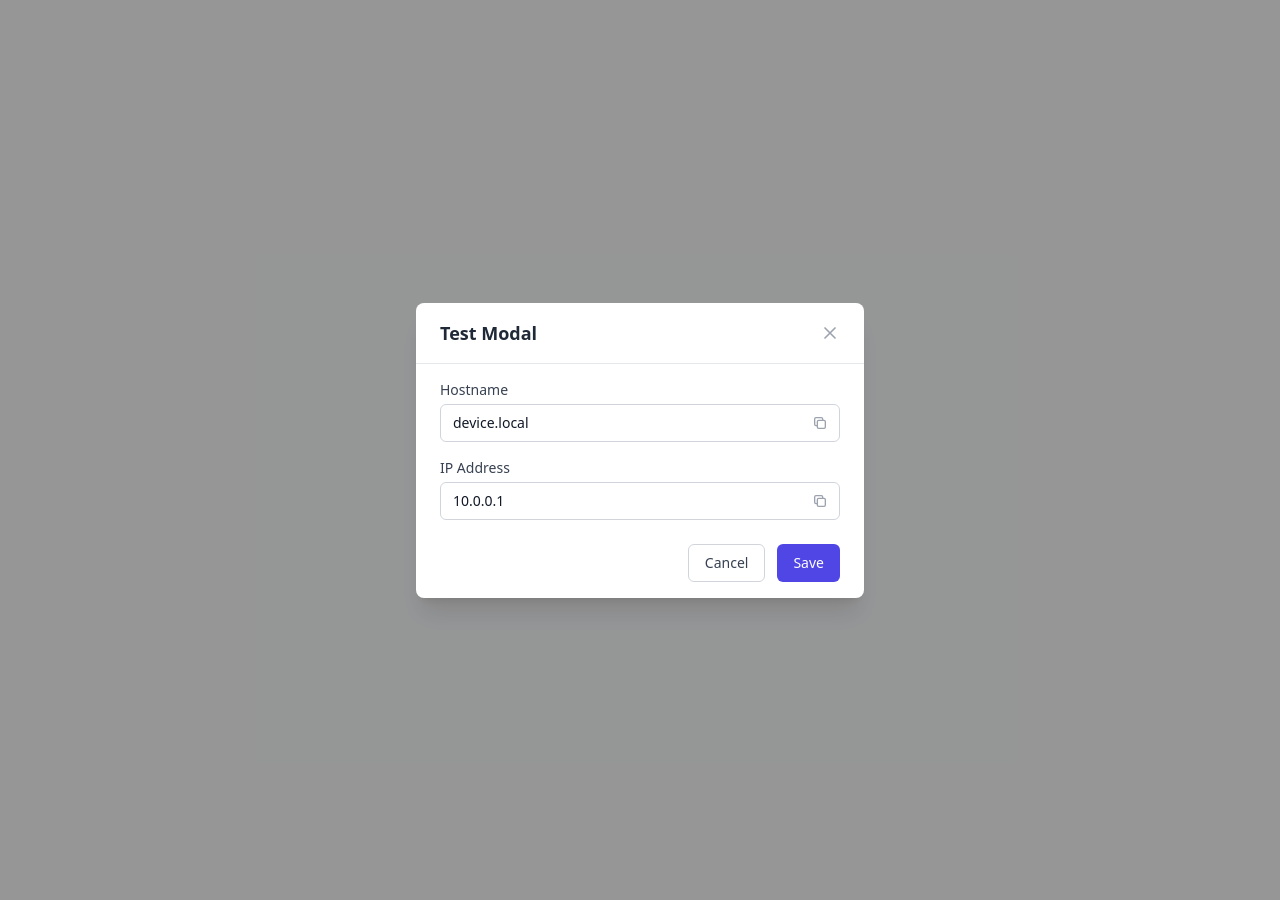
Test: EntryModal › form submission › does not close on submit error
Click the button "Save" at (809, 562), box [777,544,840,582]
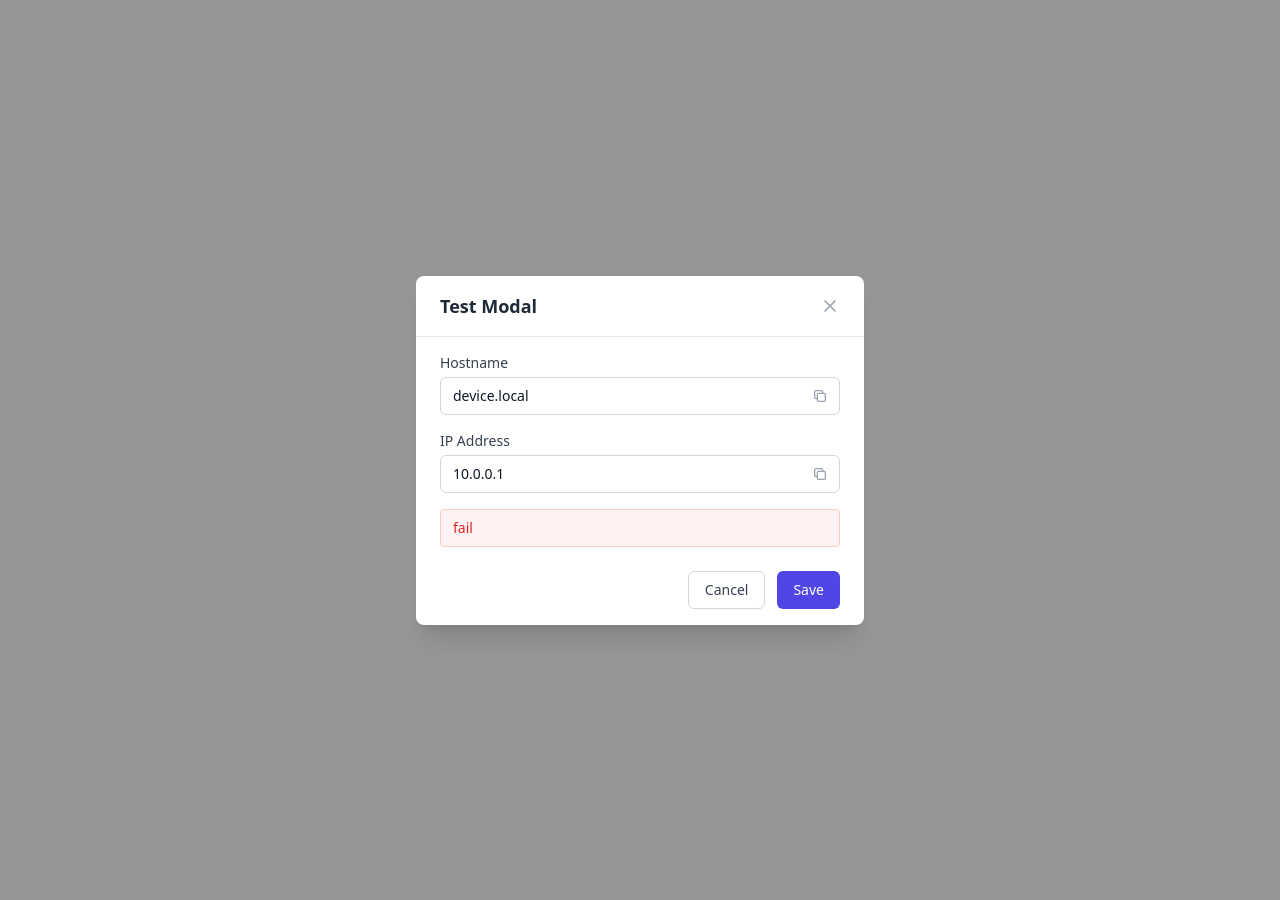
Now the message "fail" is shown, box [440,508,840,546]
